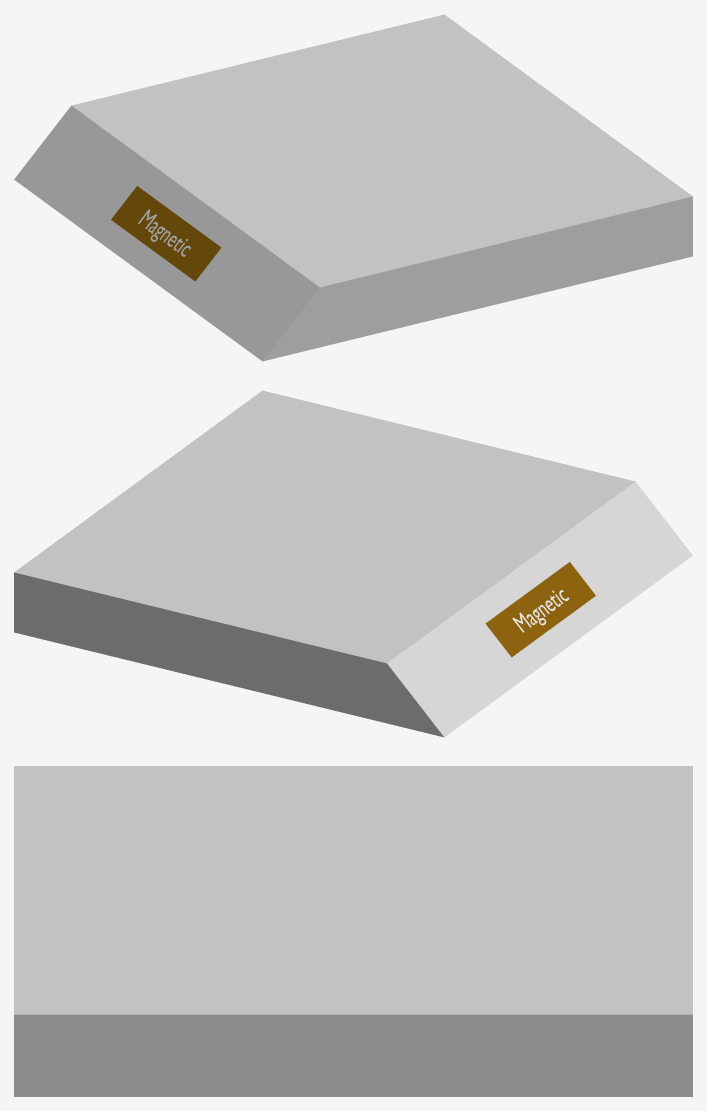
Rendered from magnetic.fbx.
The picture shows the model from 3 angles, top to bottom: view 1: azimuth 30°, elevation 25°; view 2: azimuth 150°, elevation 25°; view 3: azimuth 270°, elevation 25°; orthographic projection. The views are drawn at different scales.
Parts seen in each view (by area): view 1: Cube; view 2: Cube; view 3: Cube.
Boxes of the visible parts, box(x1,y1,x2,y2) form: Cube: box(14, 14, 692, 361); Cube: box(14, 390, 692, 737); Cube: box(14, 766, 692, 1096).
Size of the model in its own units: 150 by 20 by 150.
